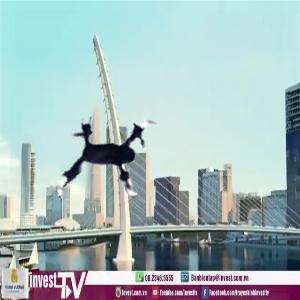drone: (42, 97, 181, 236)
